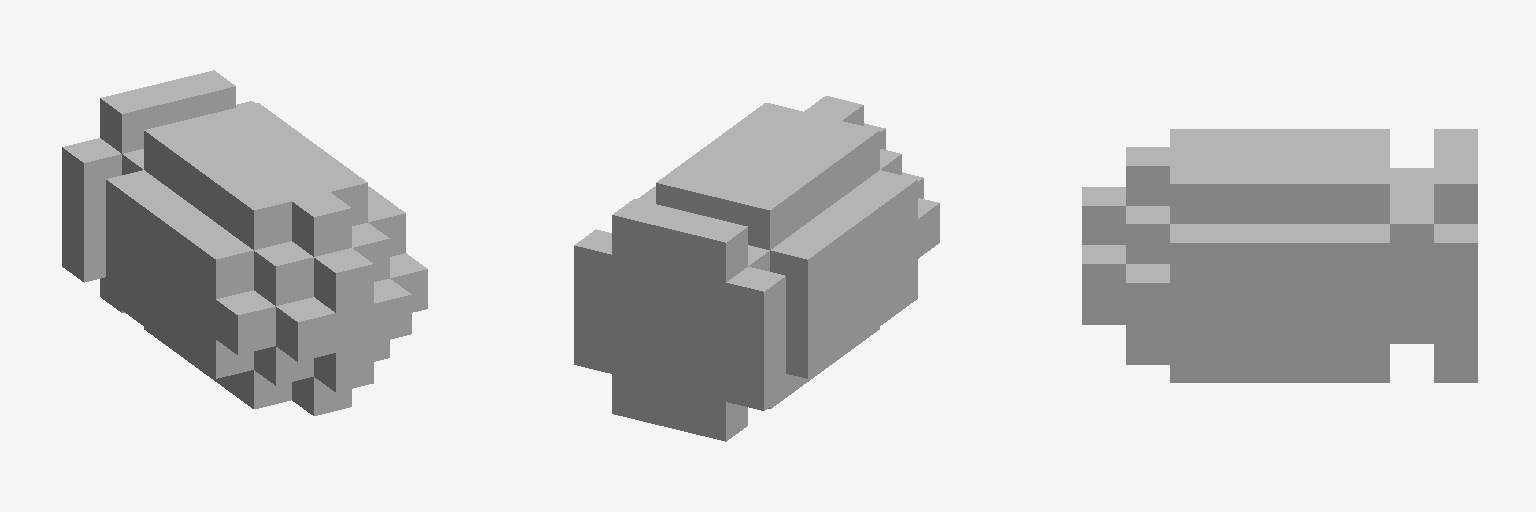
Rendered from bala.obj.
3 renders of one model, left to right at view 1: azimuth 30°, elevation 25°; view 2: azimuth 150°, elevation 25°; view 3: azimuth 270°, elevation 25°, orthographic.
Visible parts, largest first — view 1: object 1; view 2: object 1; view 3: object 1.
Part boxes in pixels (left/top/right/bottom): object 1: left=62, top=70, right=427, bottom=415; object 1: left=574, top=96, right=939, bottom=441; object 1: left=1082, top=129, right=1477, bottom=382.
Size of the model in its own units: 0.5 by 0.5 by 0.9.